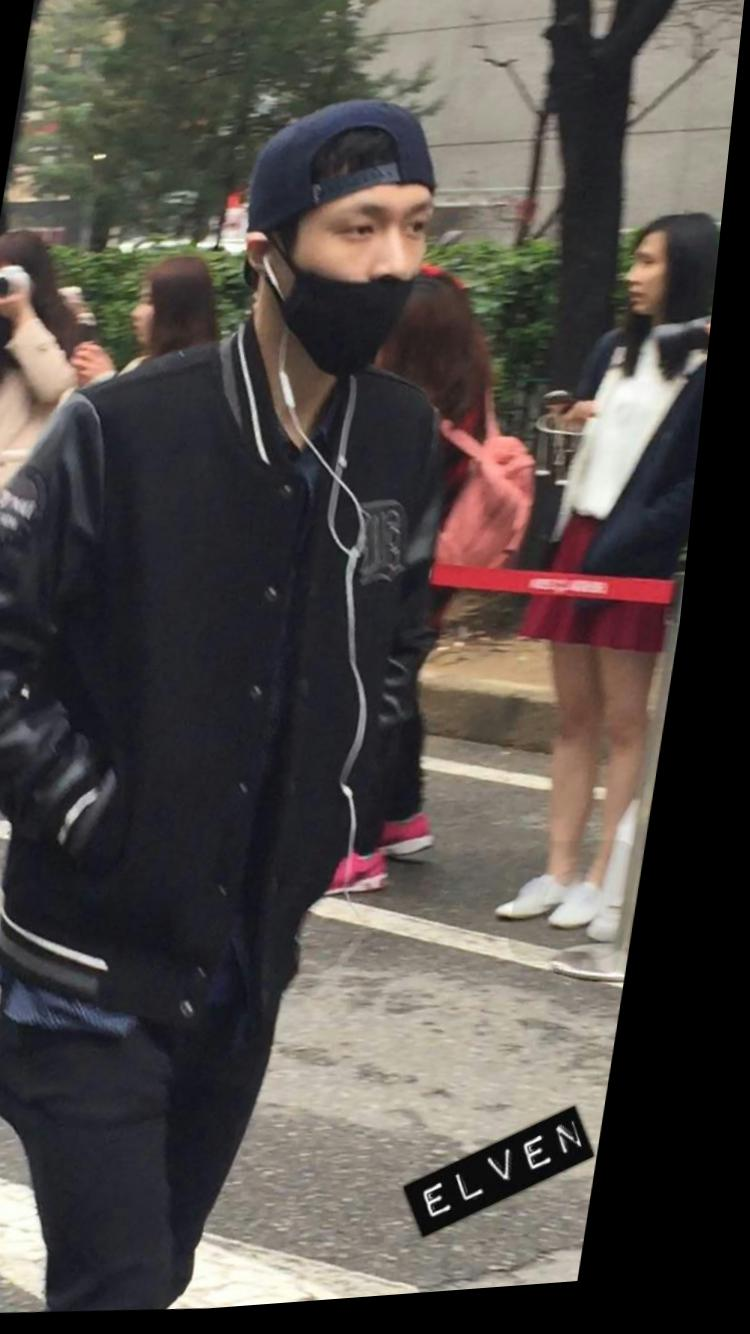NONE: (624, 252, 699, 330), (134, 290, 187, 351)
WRONG: (258, 185, 457, 380)
